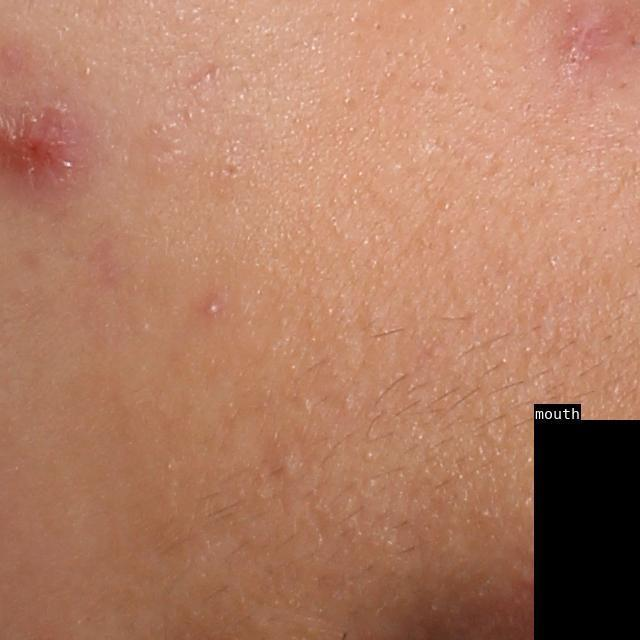comedo: (278, 453, 300, 477)
papule: (554, 0, 603, 58), (201, 301, 222, 319)
